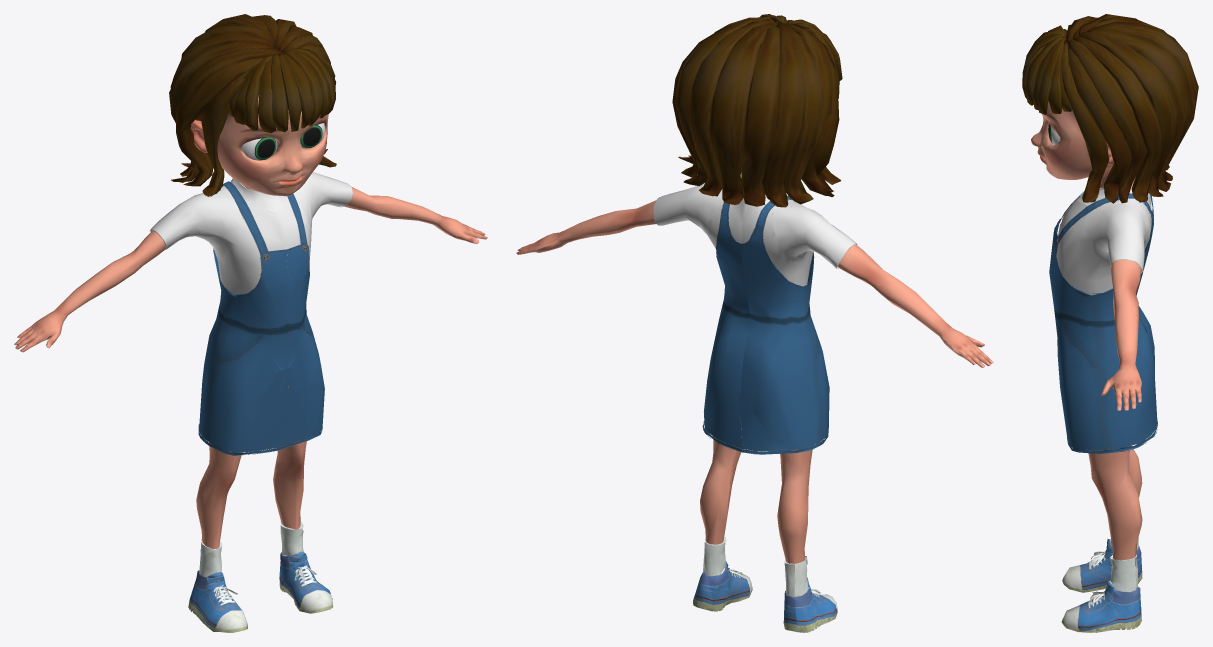
The model's file is kid girl.fbx.
The picture shows the model from 3 angles, left to right: view 1: azimuth 30°, elevation 25°; view 2: azimuth 150°, elevation 25°; view 3: azimuth 270°, elevation 25°; orthographic projection.
Parts seen in each view (by area): view 1: girl_kid1; view 2: girl_kid1; view 3: girl_kid1.
Boxes of the visible parts, x1=… form: girl_kid1: x1=14, y1=14, x2=487, y2=632; girl_kid1: x1=516, y1=14, x2=993, y2=632; girl_kid1: x1=1022, y1=14, x2=1198, y2=632.
Bounding box in the file's own units: 7080 × 8405 × 2312.
Materials: 2 (2 with a texture image).
